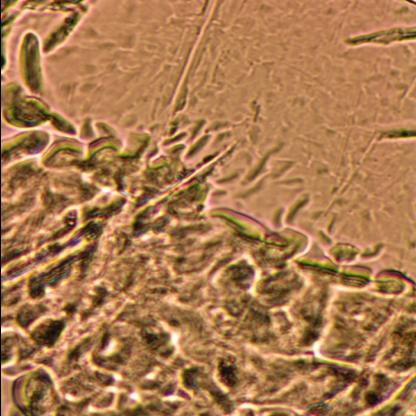Normal: (0, 138, 416, 416)
